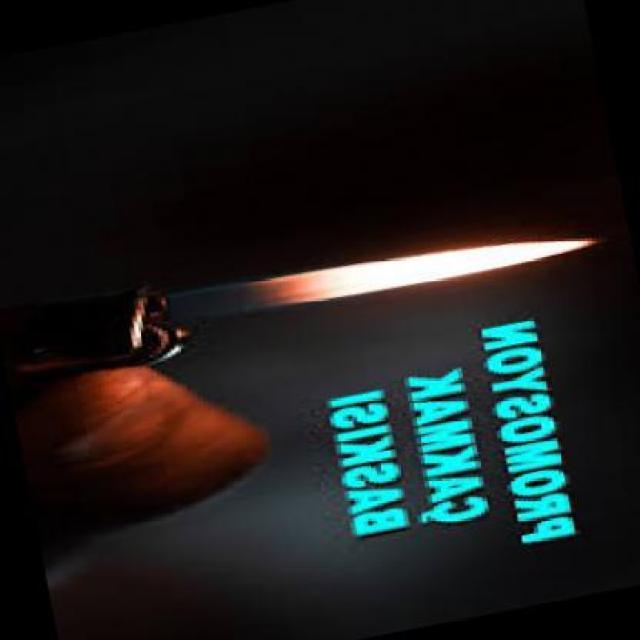Fire: (163, 228, 604, 321)
